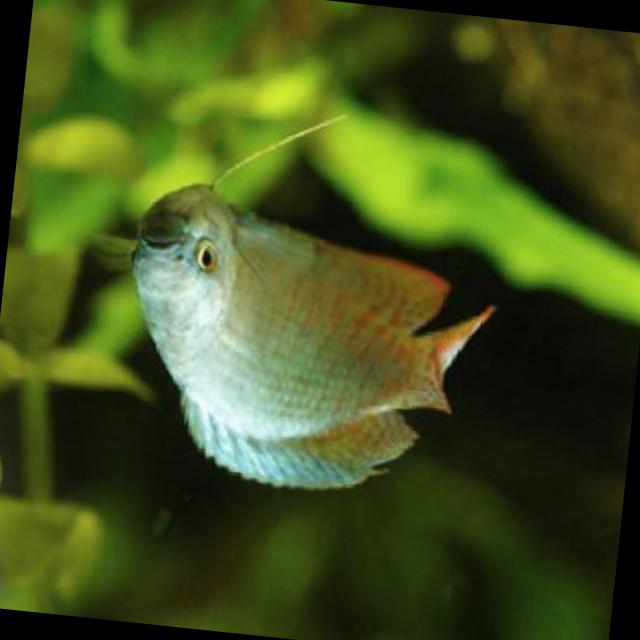Gourami: (109, 179, 492, 506)
